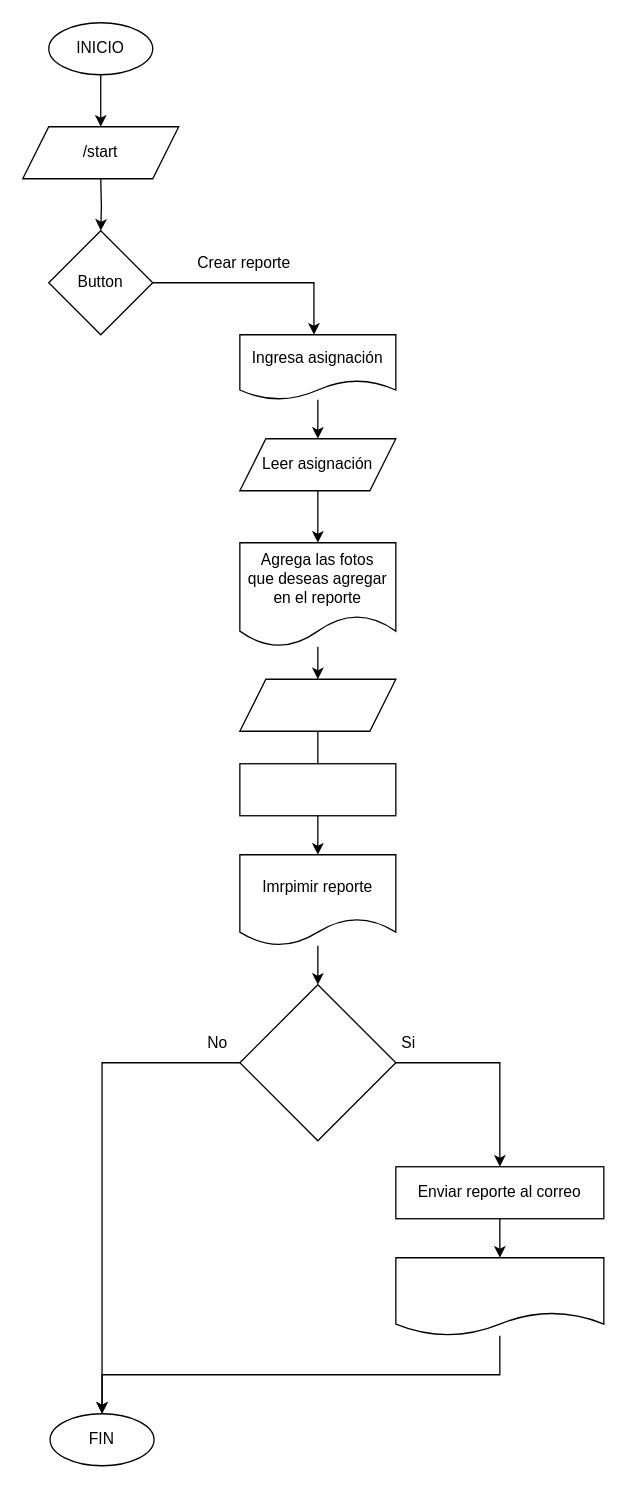
This 627x1489 diagram has some shape labels left out. The centre of each missing label's shape, as x and y in pixels:
Generar reporte: point (317, 789)
Leer archivos: point (317, 704)
Reporte envíado: point (499, 1296)
¿ Deseas enviar el reporte?: point (317, 1062)
